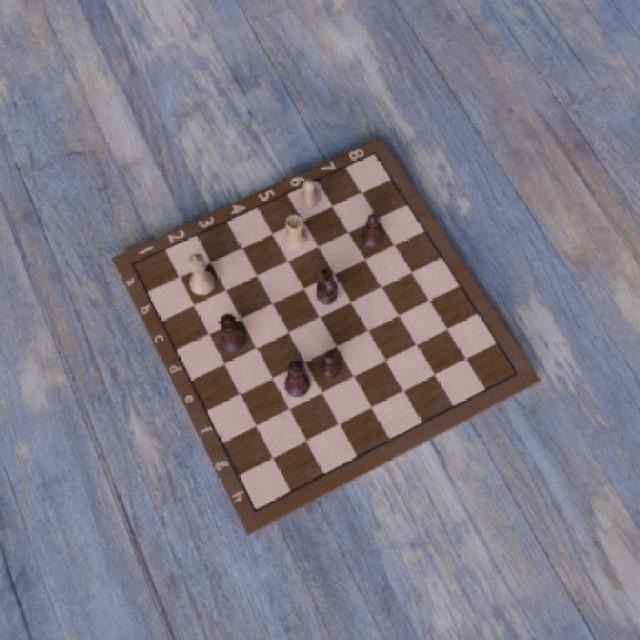black-bishop: (359, 212, 384, 252)
black-king: (283, 360, 313, 400)
black-knight: (315, 267, 339, 305)
black-pawn: (318, 348, 342, 382)
black-queen: (216, 313, 247, 355)
white-king: (185, 250, 218, 297)
white-pawn: (296, 178, 320, 210)
white-rook: (283, 213, 308, 251)
